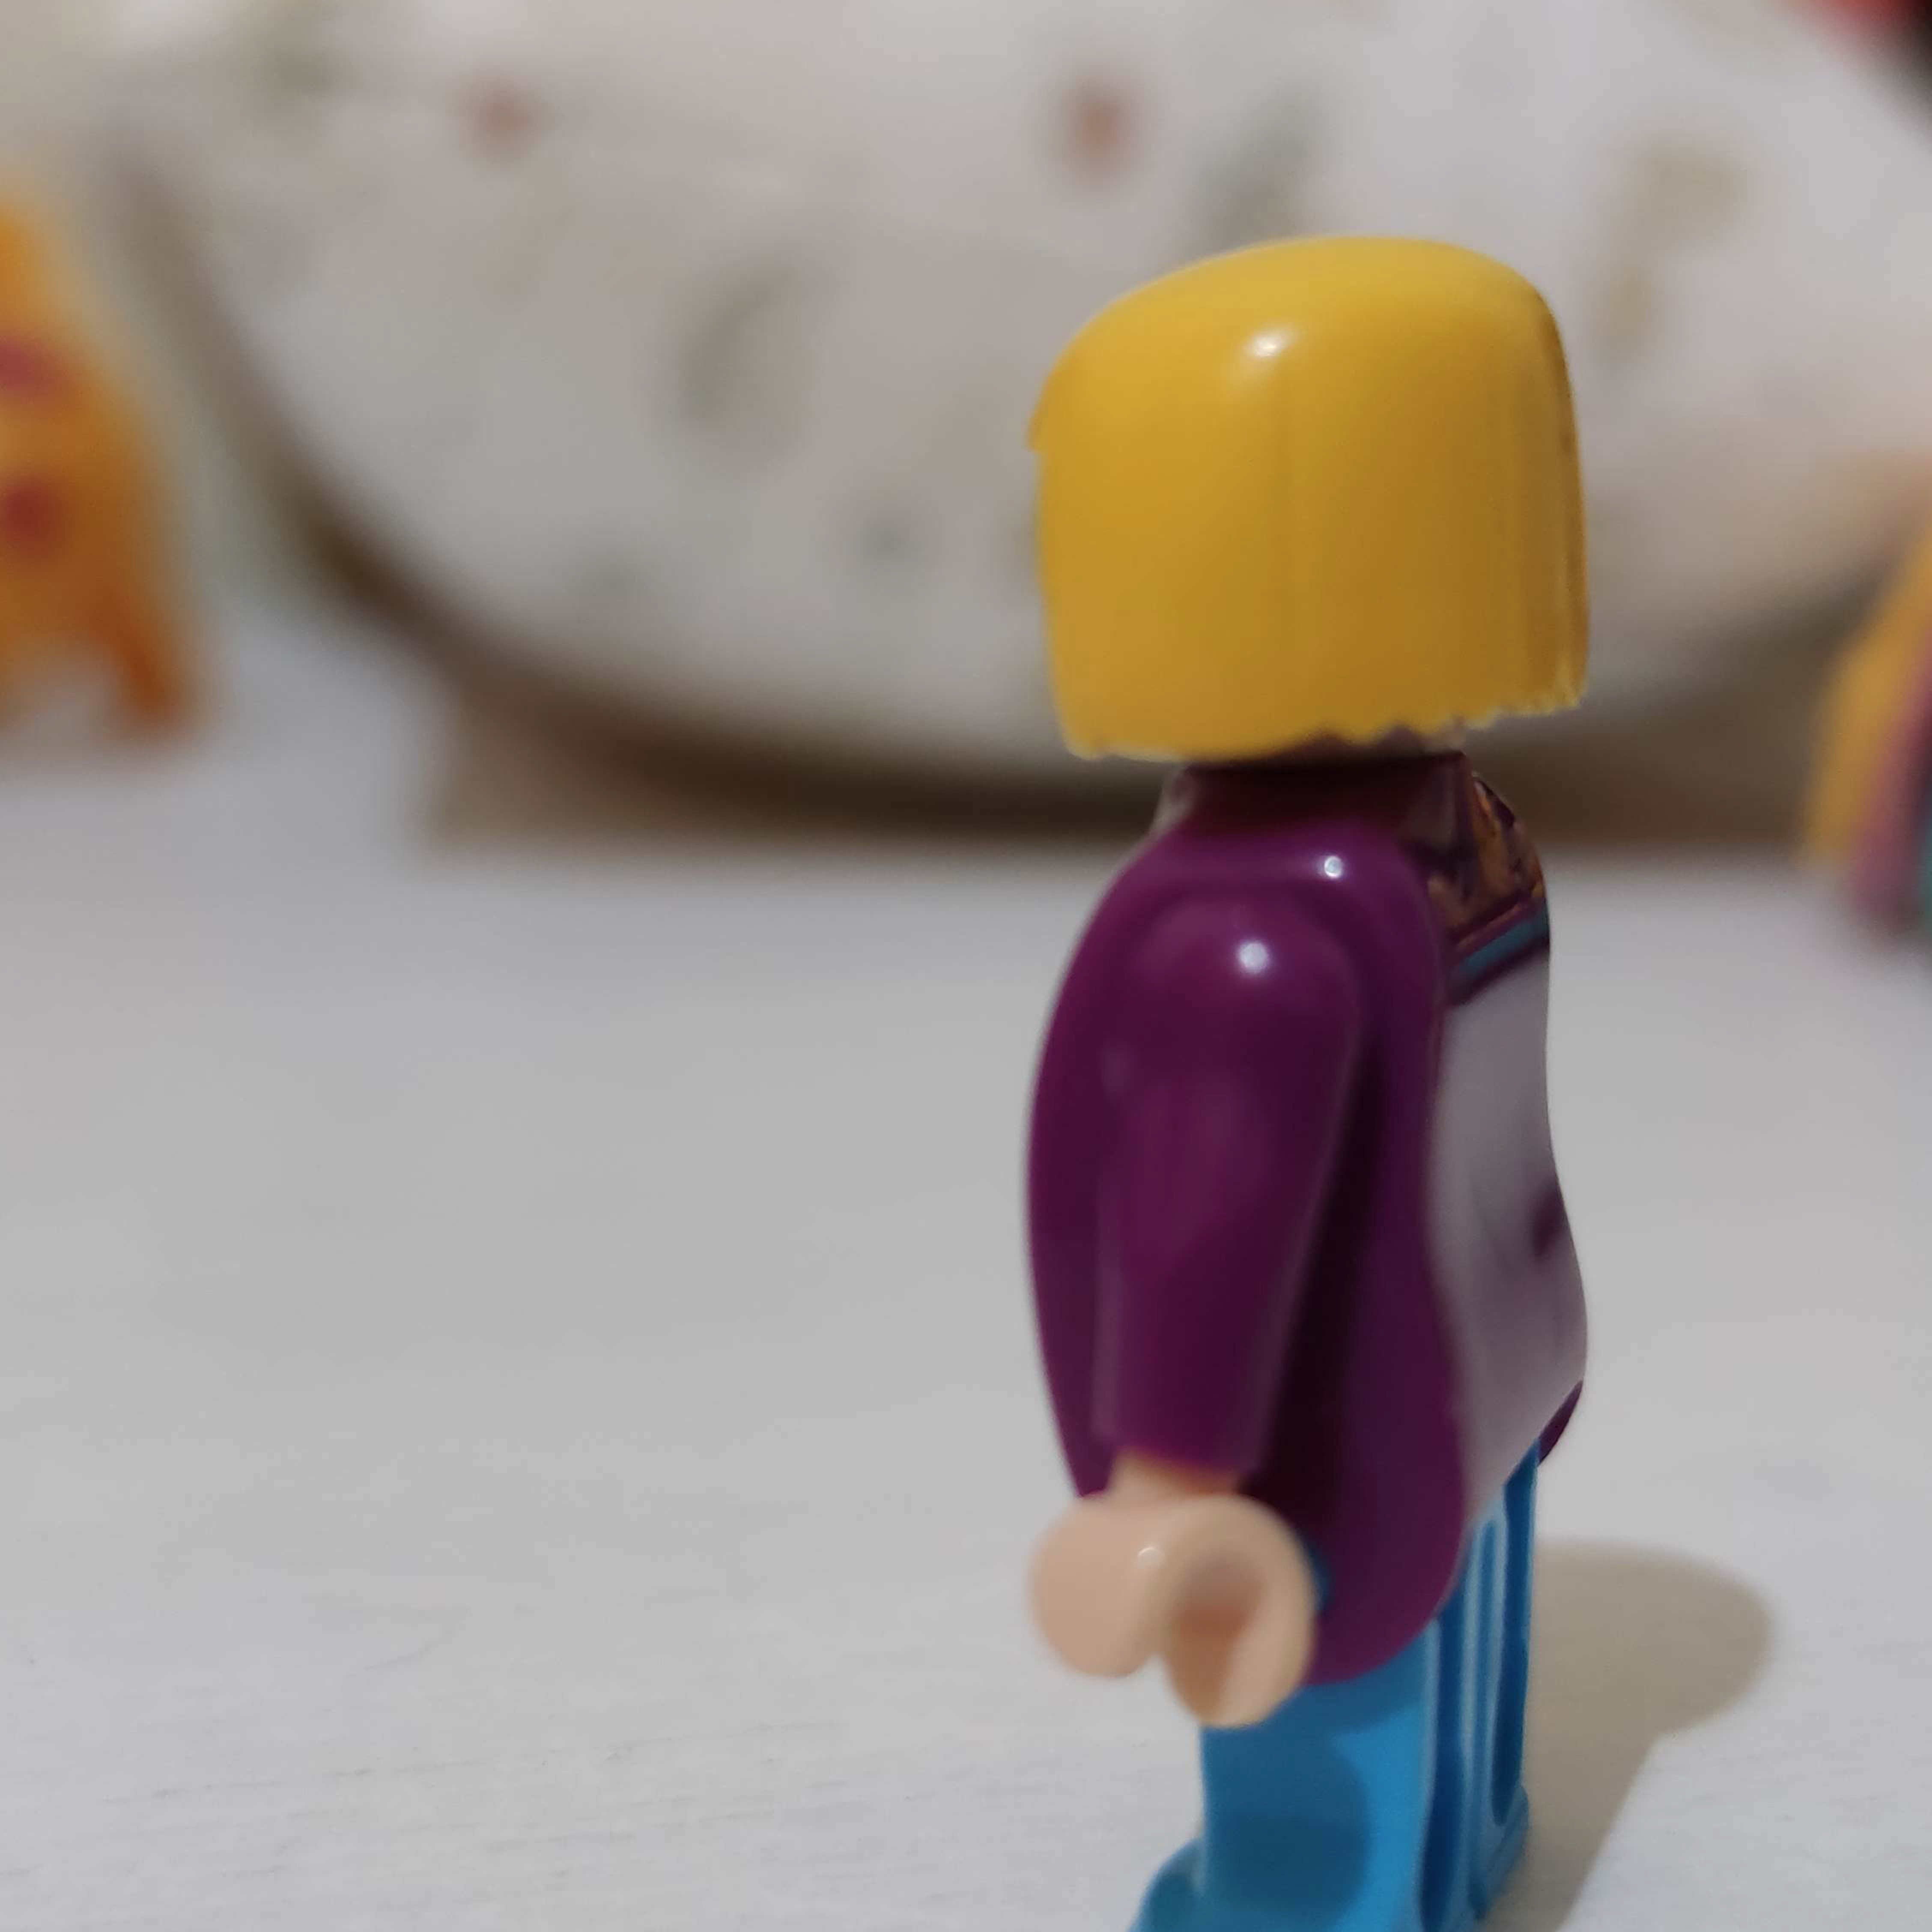lego: (1019, 234, 1598, 1932)
